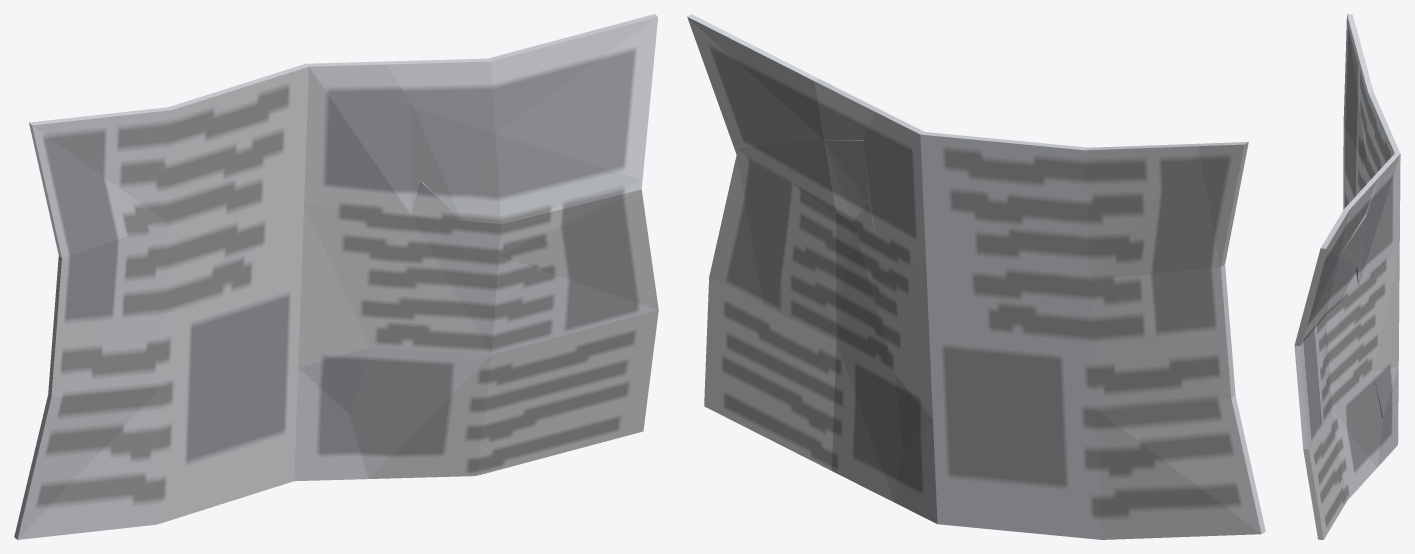
Rendered from ps_Newspaper2.FBX.
3 renders of one model, left to right at view 1: azimuth 30°, elevation 25°; view 2: azimuth 150°, elevation 25°; view 3: azimuth 270°, elevation 25°, orthographic. The views are drawn at different scales.
Parts seen in each view (by area): view 1: Newspaper2_Part_1, Newspaper2_Part_3, Newspaper2_Part_4, Newspaper2_Part_2, Newspaper2_Part_5; view 2: Newspaper2_Part_1, Newspaper2_Part_3, Newspaper2_Part_4, Newspaper2_Part_2, Newspaper2_Part_5; view 3: Newspaper2_Part_4, Newspaper2_Part_3, Newspaper2_Part_2, Newspaper2_Part_1, Newspaper2_Part_5.
Boxes of the visible parts, x1,y1,x2,y2 form: Newspaper2_Part_1: (14, 118, 367, 539); Newspaper2_Part_3: (70, 61, 421, 413); Newspaper2_Part_4: (349, 181, 649, 478); Newspaper2_Part_2: (412, 106, 658, 381); Newspaper2_Part_5: (385, 14, 657, 180); Newspaper2_Part_1: (894, 142, 1265, 539); Newspaper2_Part_3: (863, 109, 1199, 449); Newspaper2_Part_4: (704, 204, 902, 501); Newspaper2_Part_2: (706, 140, 867, 351); Newspaper2_Part_5: (687, 14, 879, 148); Newspaper2_Part_4: (1312, 271, 1381, 539); Newspaper2_Part_3: (1353, 37, 1400, 417); Newspaper2_Part_2: (1294, 214, 1366, 502); Newspaper2_Part_1: (1343, 14, 1398, 467); Newspaper2_Part_5: (1296, 177, 1378, 341).
Bounding box in the file's own units: 104 × 72.65 × 21.14.
